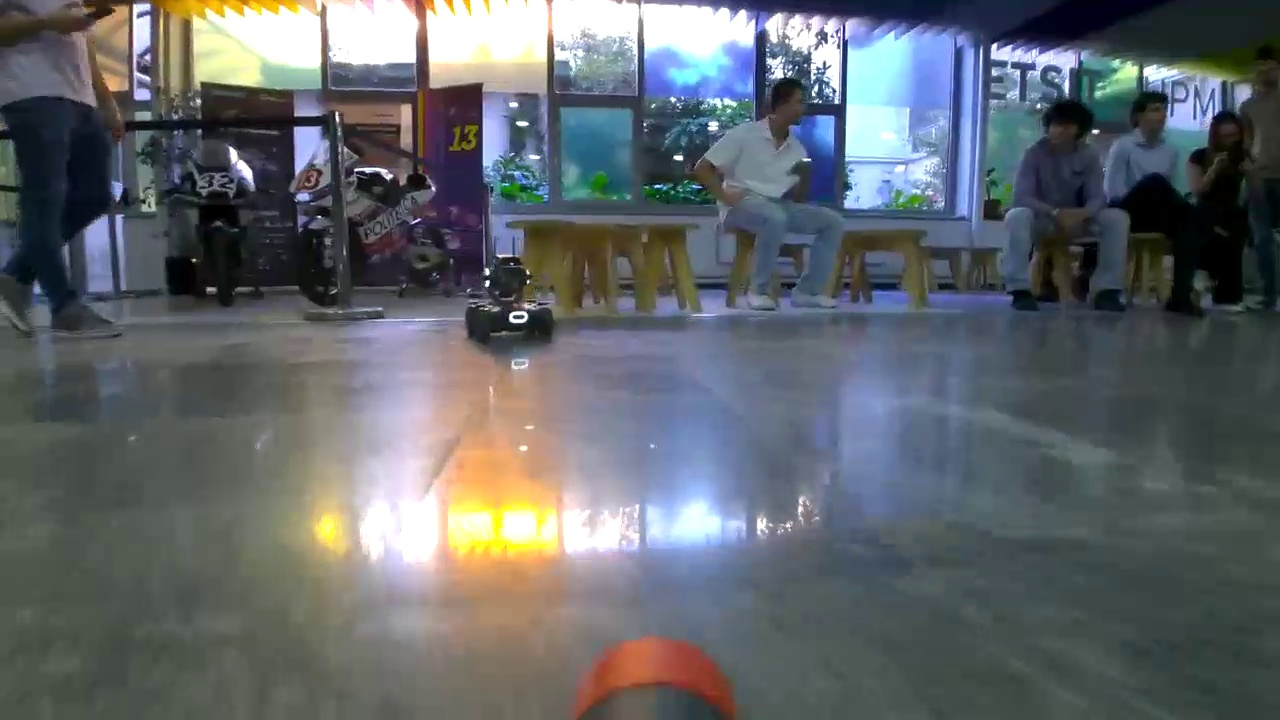robot: (462, 278, 555, 358)
